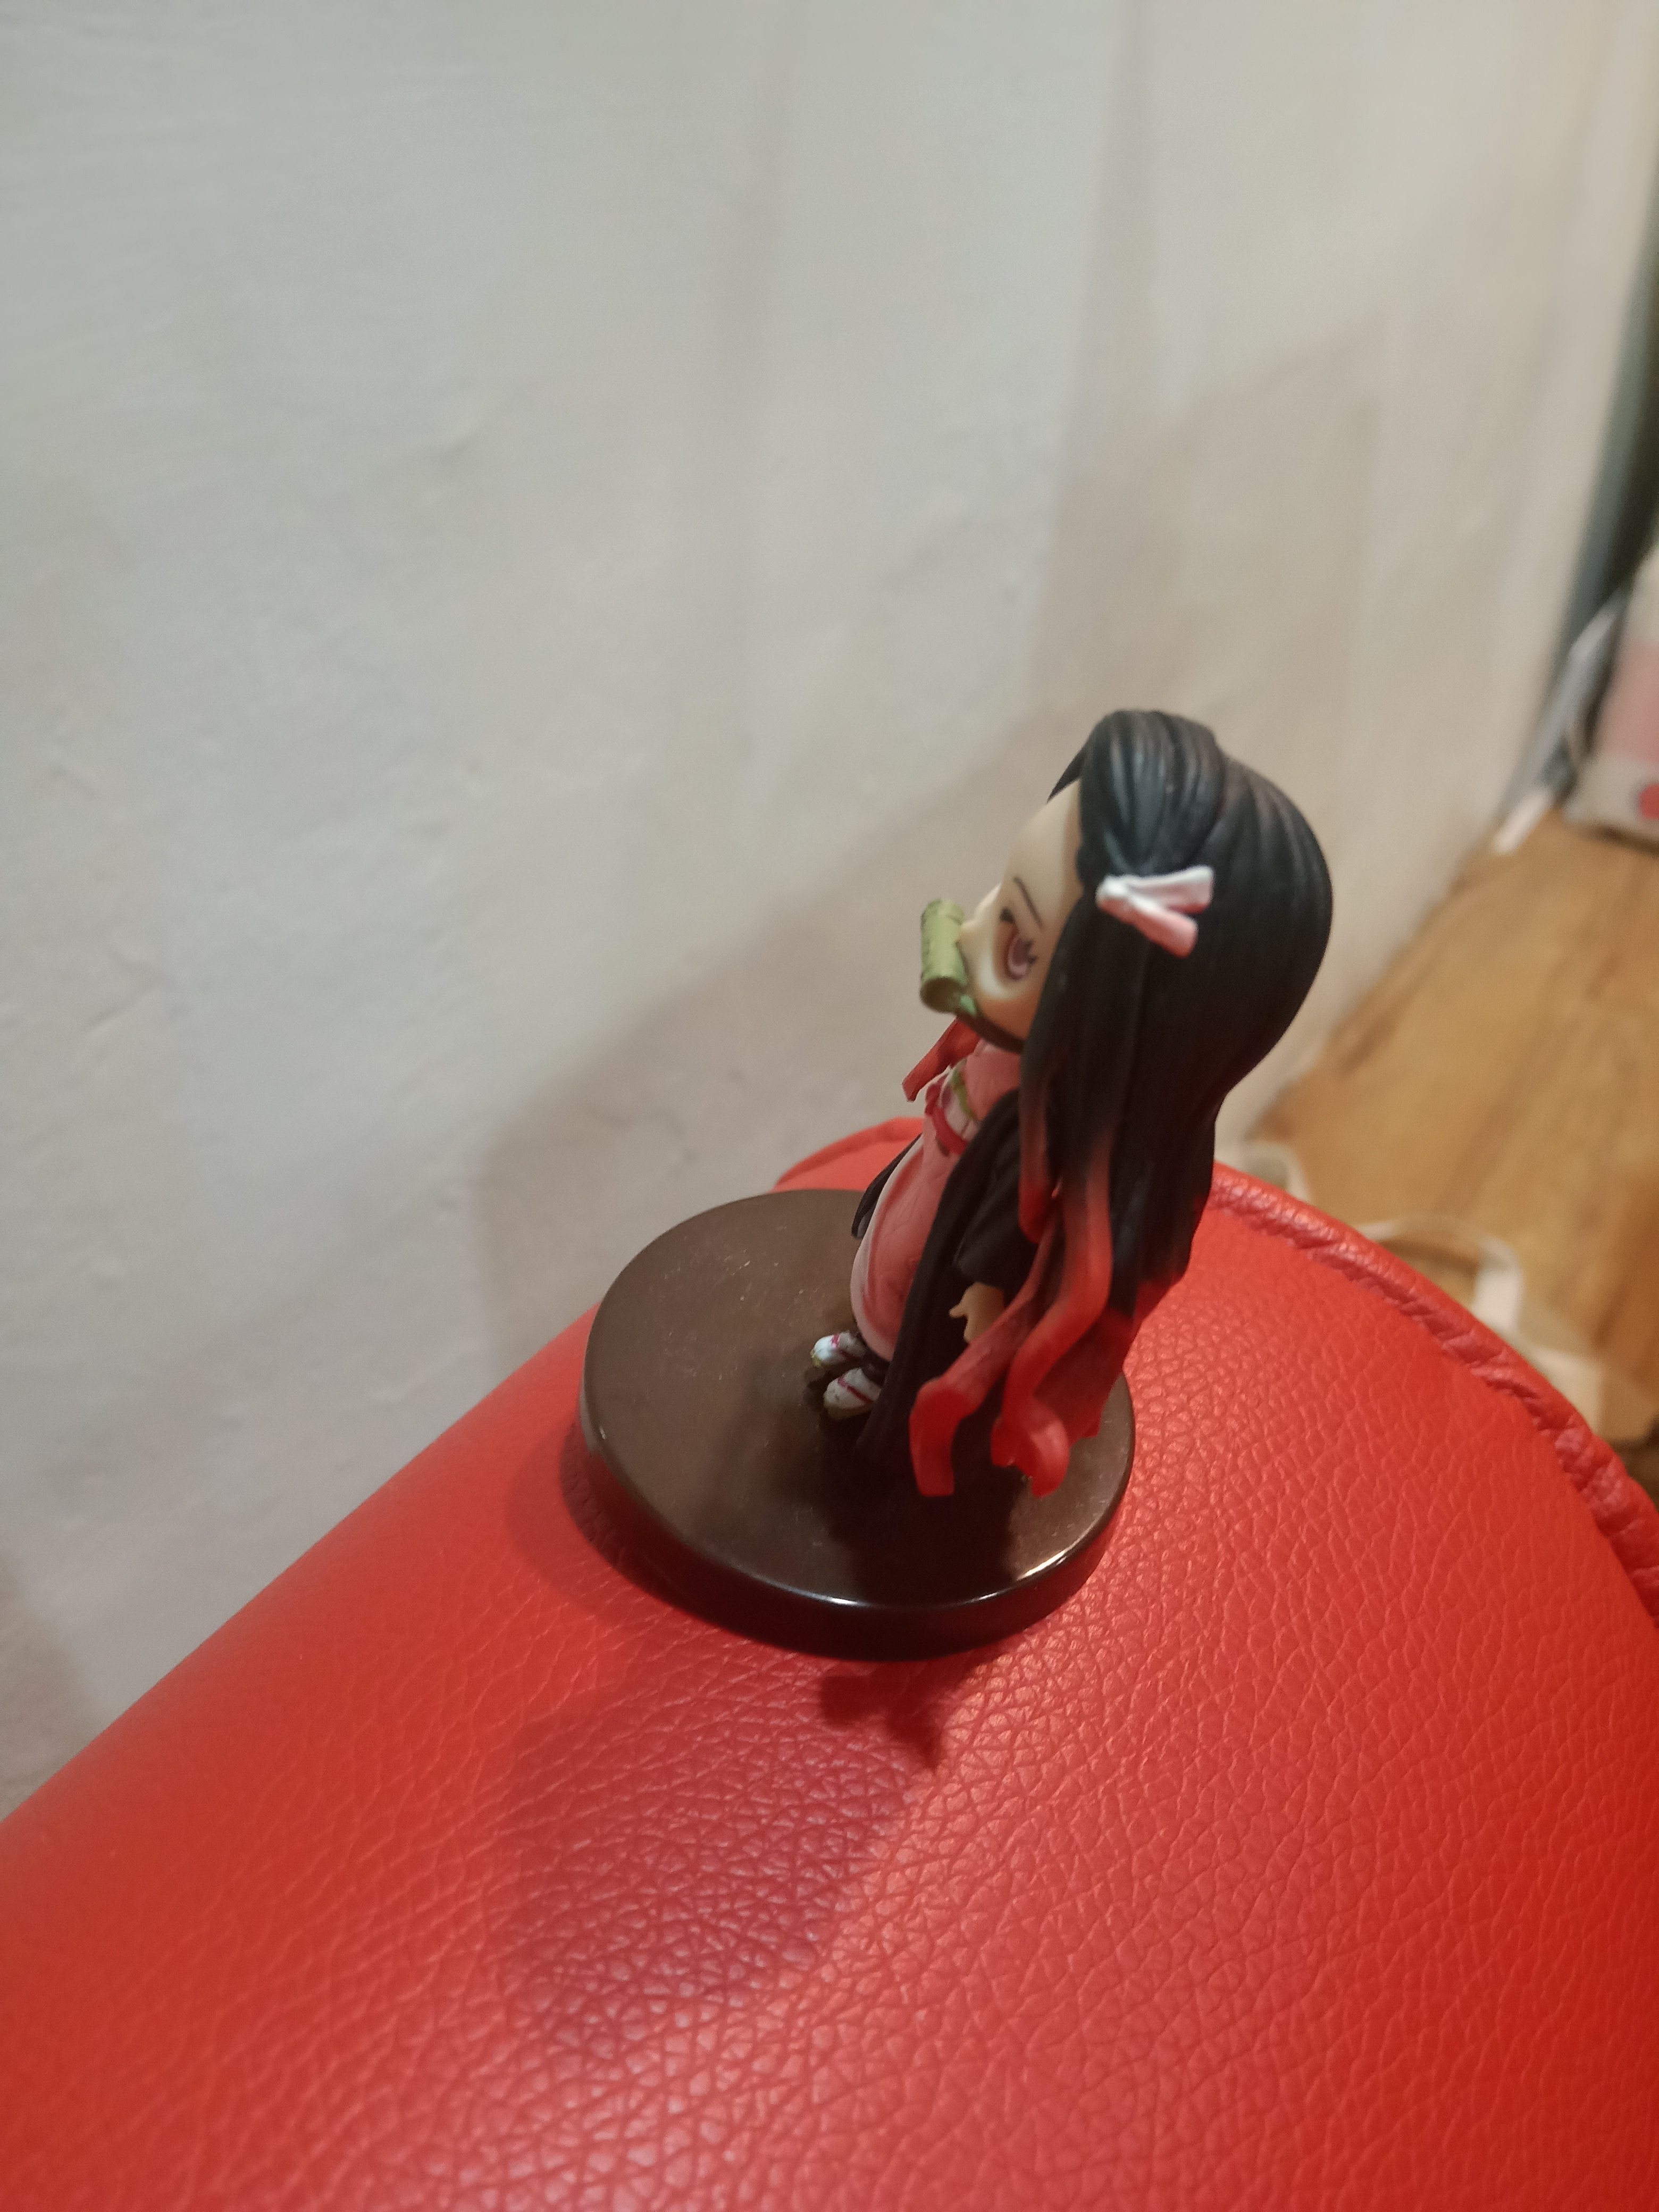Nezuko: (542, 704, 1352, 1686)
